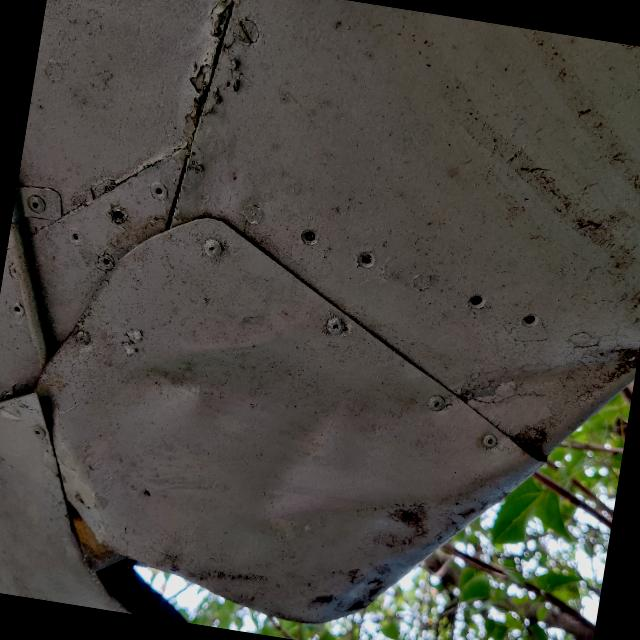dent: (85, 248, 640, 603)
